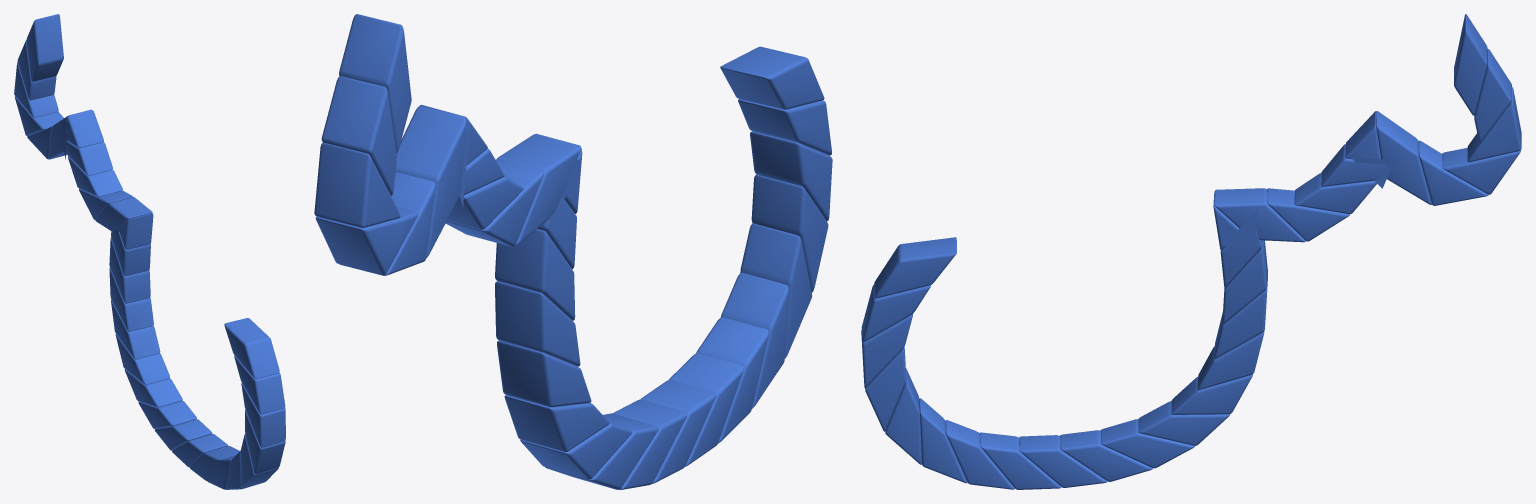
The model's file is sin.fbx.
The picture shows the model from 3 angles, left to right: view 1: azimuth 30°, elevation 25°; view 2: azimuth 150°, elevation 25°; view 3: azimuth 270°, elevation 25°; orthographic projection. The views are drawn at different scales.
Parts seen in each view (by area): view 1: Cube; view 2: Cube; view 3: Cube.
Boxes of the visible parts, <box> form: Cube: <box>14,14,285,489</box>; Cube: <box>314,14,832,489</box>; Cube: <box>861,14,1521,489</box>.
Size of the model in its own units: 71.34 by 739 by 963.
